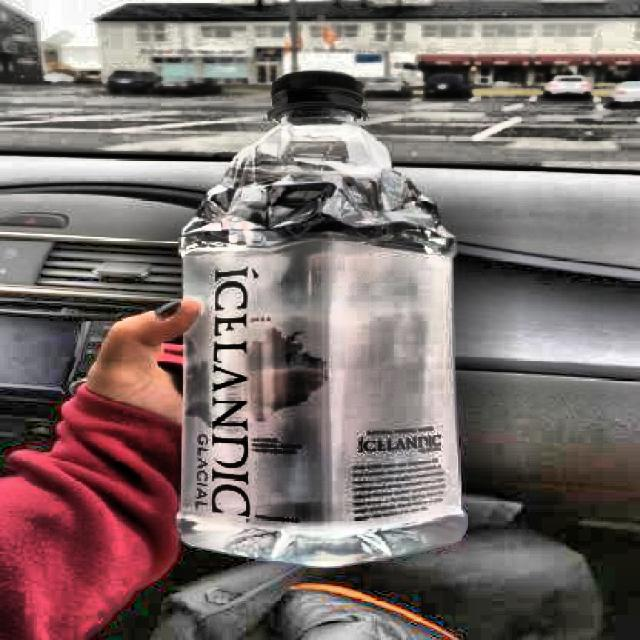Bottles: (158, 65, 482, 572)
